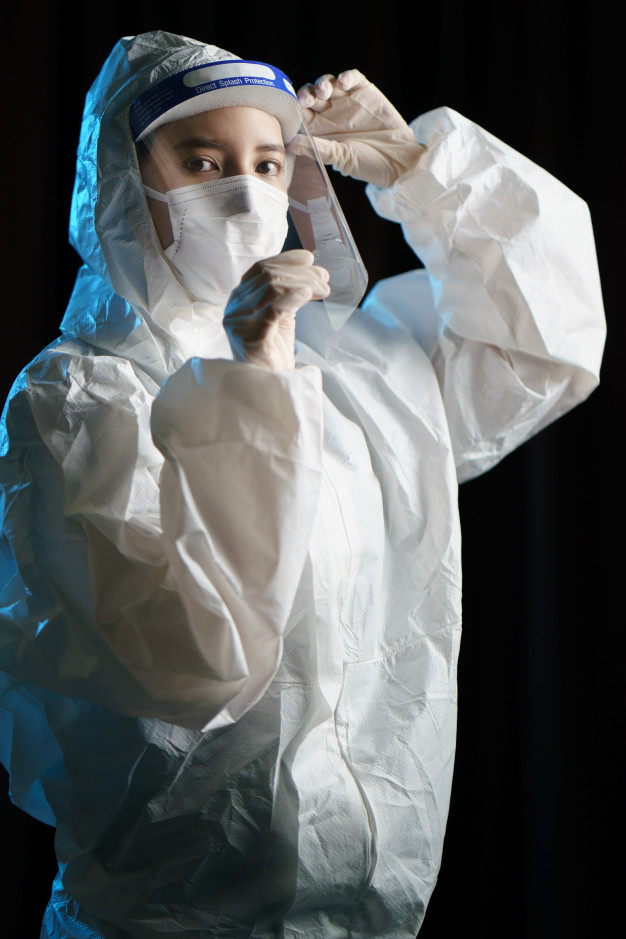Coverall: (13, 36, 456, 939)
Gloves: (284, 68, 438, 206), (209, 245, 341, 399)
with_mask: (156, 150, 297, 304)
